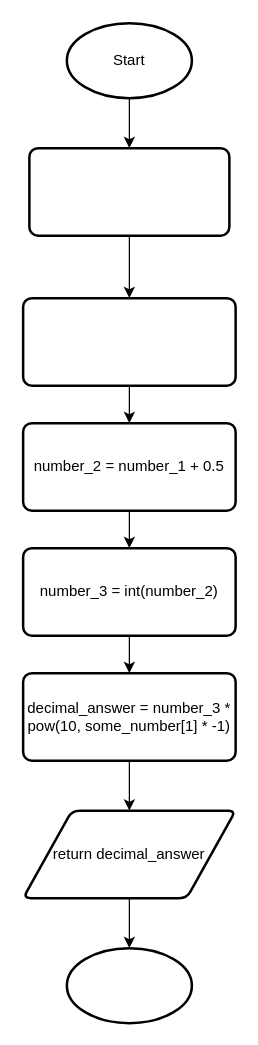
This 258x1045 diagram has some shape labels left out. Each missing label, with the centre of its shape:
"number_1 = some_number[0] * pow(10, some_number[1])" goes at (x=128, y=341).
"pass some_number (some_number = [float_enter, decimal_places]" goes at (x=129, y=191).
"Stop" goes at (x=128, y=985).
